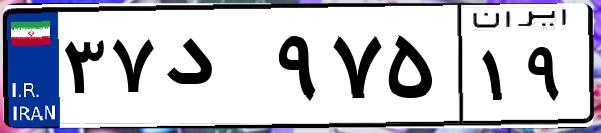1: (475, 38, 525, 113)
3: (57, 26, 110, 100)
5: (385, 28, 445, 110)
7: (330, 28, 385, 110), (110, 28, 158, 98)
9: (270, 28, 330, 110), (525, 38, 570, 115)
د: (158, 20, 270, 120)
